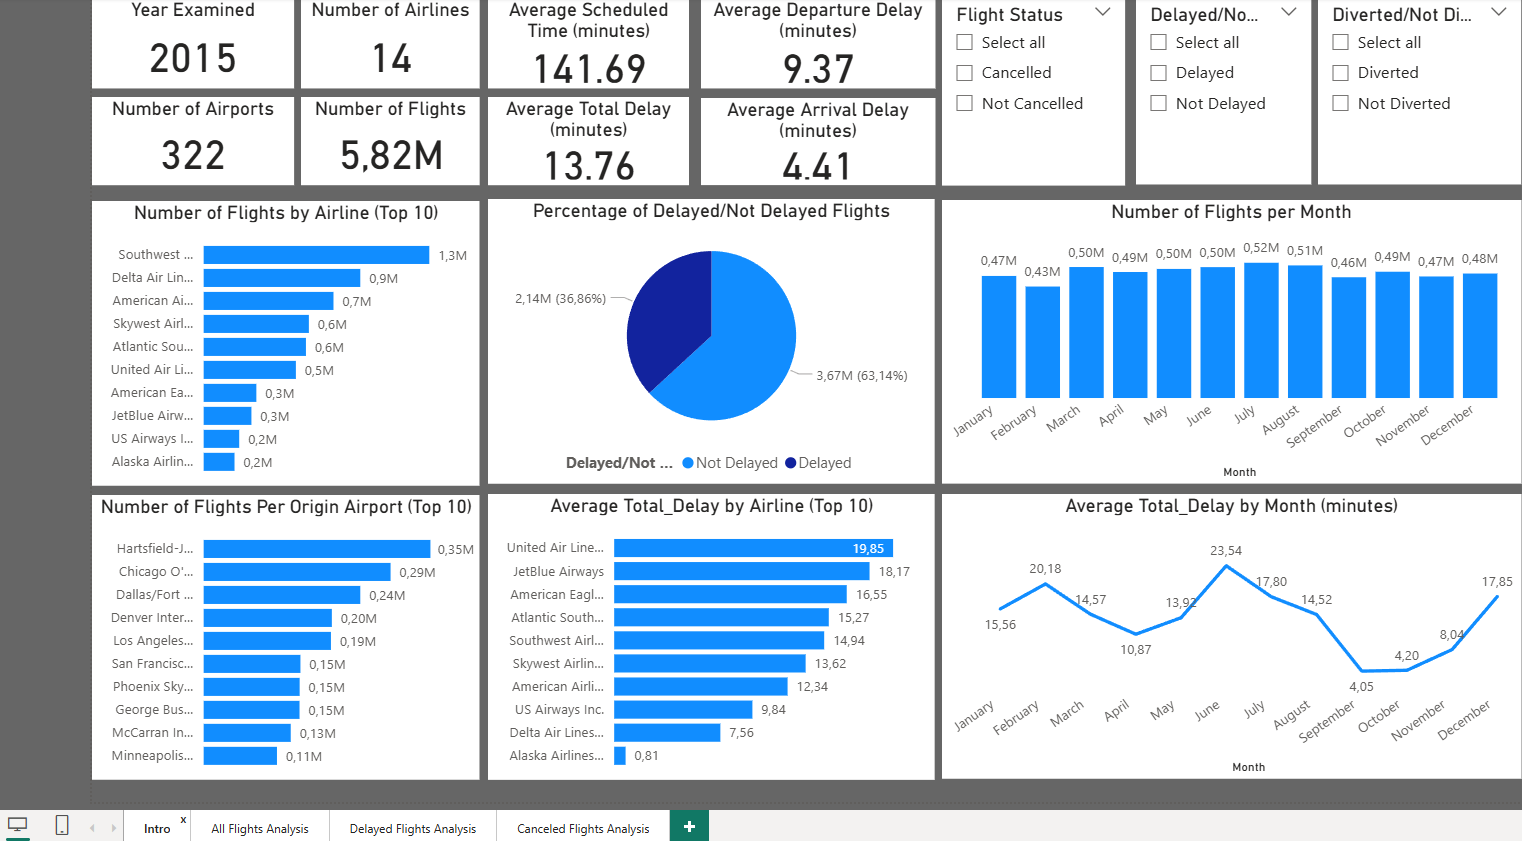

This screenshot's page, from the dashboard's own definition file:
{"tool":"powerbi","page":{"name":"Intro","canvas":[1280,720],"ordinal":0},"visuals":[{"type":"card","title":"Number of Airports","fields":{"Values":["CountNonNull(airports.AIRPORT)"]},"box":[0,88.7,180.9,78.8],"z":0},{"type":"card","title":"Year Examined","fields":{"Values":["Max(flights.YEAR)"]},"box":[0,0,180.9,81.5],"z":1000},{"type":"card","title":"Number of Flights","fields":{"Values":["CountNonNull(flights.FLIGHT_NUMBER)"]},"box":[187.2,88.7,160.3,78.8],"z":2000},{"type":"card","title":"Number of Airlines","fields":{"Values":["CountNonNull(airlines.AIRLINE)"]},"box":[187.2,0,160.3,81.5],"z":3000},{"type":"card","title":"Average Scheduled Time (minutes)","fields":{"Values":["Avg(flights.SCHEDULED_TIME)"]},"box":[354.6,0,180,81.5],"z":4000},{"type":"slicer","fields":{"Values":["flights.Cancelled Status"]},"box":[761.2,0,163.9,168.4],"z":5000},{"type":"barChart","title":"Number of Flights by Airline (Top 10)","fields":{"Y":["CountNonNull(flights.FLIGHT_NUMBER)"],"Category":["airlines.AIRLINE"]},"box":[0,181.8,347.5,255.2],"z":6000},{"type":"barChart","title":"Number of Flights Per Origin Airport (Top 10)","fields":{"Y":["CountNonNull(flights.FLIGHT_NUMBER)"],"Category":["airports.AIRPORT","flights.ORIGIN_AIRPORT"]},"box":[0,445.1,347.5,255.2],"z":7000},{"type":"card","title":"Average Total Delay (minutes)","fields":{"Values":["Avg(flights.Total_Delay)"]},"box":[354.6,88.7,180,78.8],"z":8000},{"type":"card","title":"Average Departure Delay (minutes)","fields":{"Values":["Avg(flights.DEPARTURE_DELAY)"]},"box":[545.4,0,209.6,81.5],"z":9000},{"type":"slicer","fields":{"Values":["flights.Delayed/Not Delayed Flights"]},"box":[934.9,0,156.7,167.5],"z":10000},{"type":"card","title":"Average Arrival Delay (minutes)","fields":{"Values":["Avg(flights.ARRIVAL_DELAY)"]},"box":[545.4,89.6,209.6,77.9],"z":11000},{"type":"barChart","title":"Average Total_Delay by Airline (Top 10)","fields":{"Category":["airlines.AIRLINE"],"Y":["Avg(flights.Total_Delay)"]},"box":[354.6,444.2,400.3,256.1],"z":12000},{"type":"pieChart","title":"Percentage of Delayed/Not Delayed Flights","fields":{"Y":["CountNonNull(flights.FLIGHT_NUMBER)"],"Category":["flights.Delayed/Not Delayed Flights"]},"box":[354.6,180,400.3,255.2],"z":13000},{"type":"columnChart","title":"Number of Flights per Month","fields":{"Category":["months.month_name.Variation.Date Hierarchy.Year","months.month_name.Variation.Date Hierarchy.Quarter","months.month_name.Variation.Date Hierarchy.Month","months.month_name.Variation.Date Hierarchy.Day"],"Y":["CountNonNull(flights.FLIGHT_NUMBER)"]},"box":[761.2,180.9,518.5,254.3],"z":14000},{"type":"lineChart","title":"Average Total_Delay by Month (minutes)","fields":{"Y":["Avg(flights.Total_Delay)"],"Category":["months.month_name.Variation.Date Hierarchy.Year","months.month_name.Variation.Date Hierarchy.Quarter","months.month_name.Variation.Date Hierarchy.Month","months.month_name.Variation.Date Hierarchy.Day"]},"box":[761.2,444.2,518.5,255.2],"z":15000},{"type":"slicer","fields":{"Values":["flights.Diverted/Not Diverted Flights"]},"box":[1097.9,0,181.8,167.5],"z":16000}]}

Visuals, with their boxes in screenshot pixels (x1, y1, x2, y2):
"Number of Airports" card: crop(91, 95, 292, 182)
"Year Examined" card: crop(91, 0, 292, 87)
"Number of Flights" card: crop(299, 95, 477, 182)
"Number of Airlines" card: crop(299, 0, 477, 87)
"Average Scheduled Time (minutes)" card: crop(485, 0, 685, 87)
slicer - flights.Cancelled Status: crop(936, 0, 1118, 183)
"Number of Flights by Airline (Top 10)" barChart: crop(91, 198, 477, 481)
"Number of Flights Per Origin Airport (Top 10)" barChart: crop(91, 490, 477, 773)
"Average Total Delay (minutes)" card: crop(485, 95, 685, 182)
"Average Departure Delay (minutes)" card: crop(697, 0, 929, 87)
slicer - flights.Delayed/Not Delayed Flights: crop(1129, 0, 1303, 182)
"Average Arrival Delay (minutes)" card: crop(697, 96, 929, 182)
"Average Total_Delay by Airline (Top 10)" barChart: crop(485, 489, 929, 773)
"Percentage of Delayed/Not Delayed Flights" pieChart: crop(485, 196, 929, 479)
"Number of Flights per Month" columnChart: crop(936, 197, 1512, 479)
"Average Total_Delay by Month (minutes)" lineChart: crop(936, 489, 1512, 772)
slicer - flights.Diverted/Not Diverted Flights: crop(1310, 0, 1512, 182)
